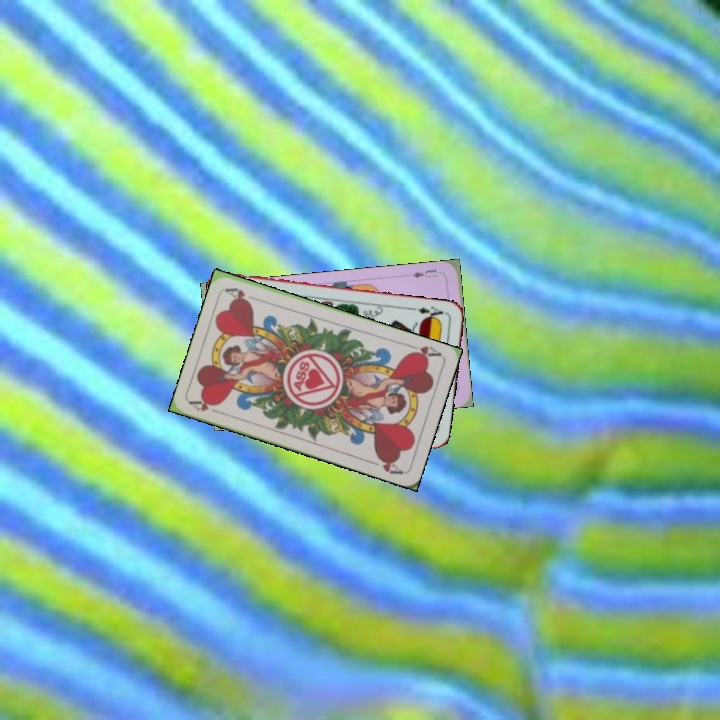EA: (409, 302, 449, 323)
EU: (408, 265, 439, 280)
HA: (404, 340, 444, 362), (187, 395, 226, 417)
